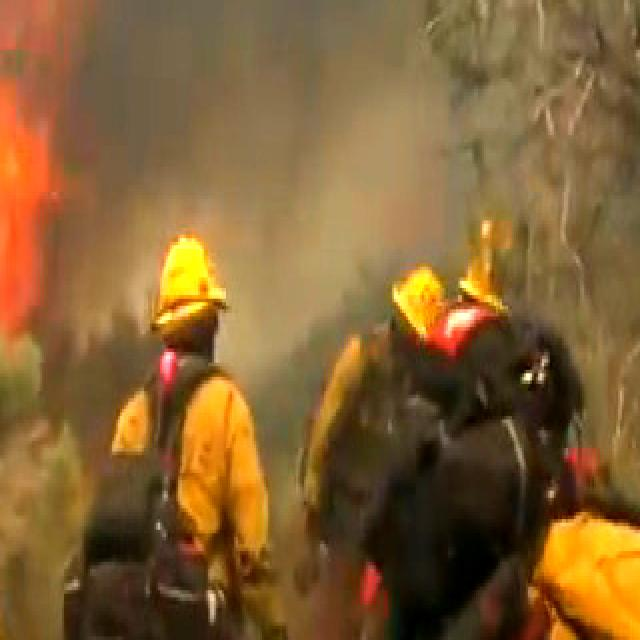fire: (0, 25, 82, 341)
